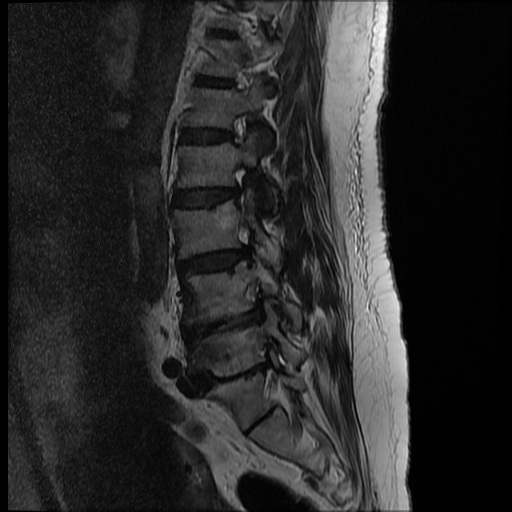LFS0: (221, 102, 259, 153)
